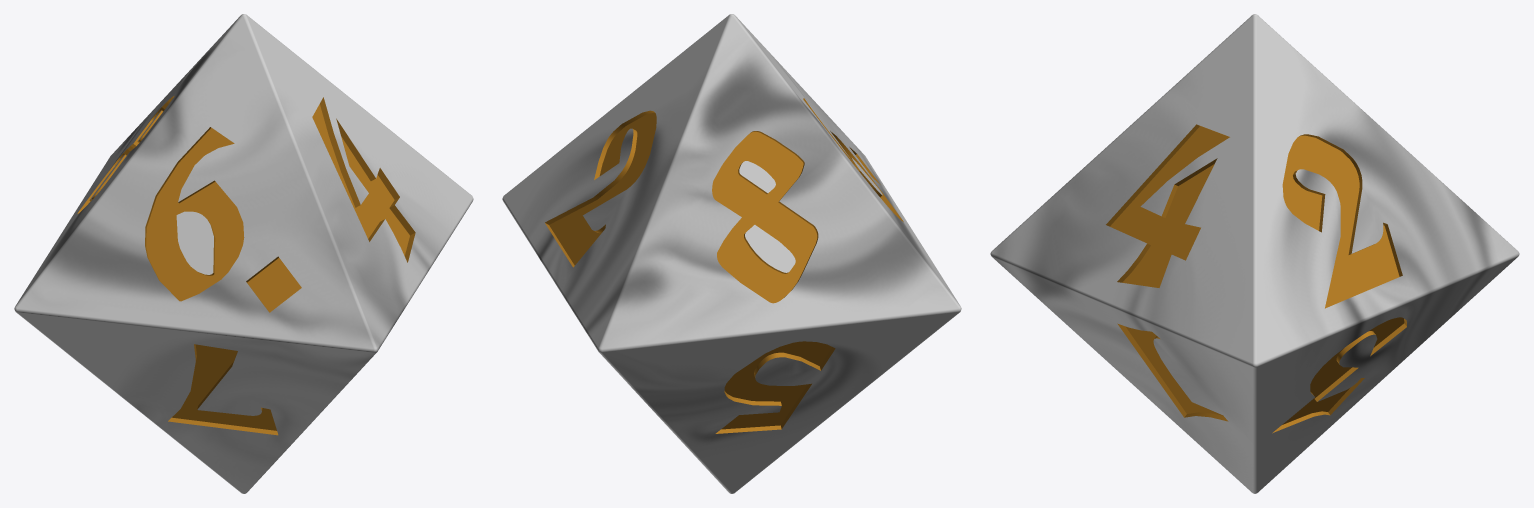
File: D8-Marble.glb
3 renders of one model, left to right at view 1: azimuth 30°, elevation 25°; view 2: azimuth 150°, elevation 25°; view 3: azimuth 270°, elevation 25°, orthographic.
Parts seen in each view (by area): view 1: D8.marble-convcol; view 2: D8.marble-convcol; view 3: D8.marble-convcol.
Part boxes in pixels (x1,y1,x2,y2): D8.marble-convcol: (14, 14, 473, 493); D8.marble-convcol: (502, 14, 961, 493); D8.marble-convcol: (990, 14, 1519, 493).
Size of the model in its own units: 1.98 by 1.98 by 1.98.
Materials: 1 (1 with a texture image).
